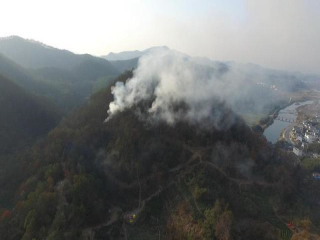smoke: (102, 27, 272, 133)
